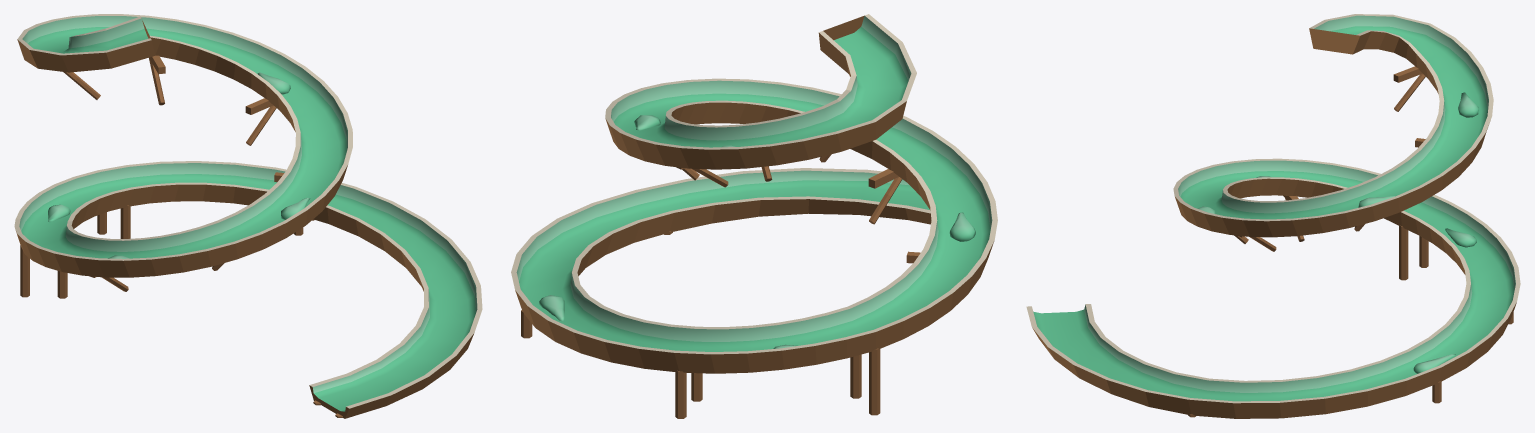
Rendered from fountain_split_slide.fbx.
The picture shows the model from 3 angles, left to right: view 1: azimuth 30°, elevation 25°; view 2: azimuth 150°, elevation 25°; view 3: azimuth 270°, elevation 25°; orthographic projection. The views are drawn at different scales.
Parts seen in each view (by area): view 1: fountain_split_slide; view 2: fountain_split_slide; view 3: fountain_split_slide.
Part boxes in pixels (bbox=[...]): fountain_split_slide: bbox=[14, 14, 482, 418]; fountain_split_slide: bbox=[511, 14, 997, 418]; fountain_split_slide: bbox=[1026, 14, 1520, 418].
Bounding box in the file's own units: 54.45 × 38.24 × 63.85.
